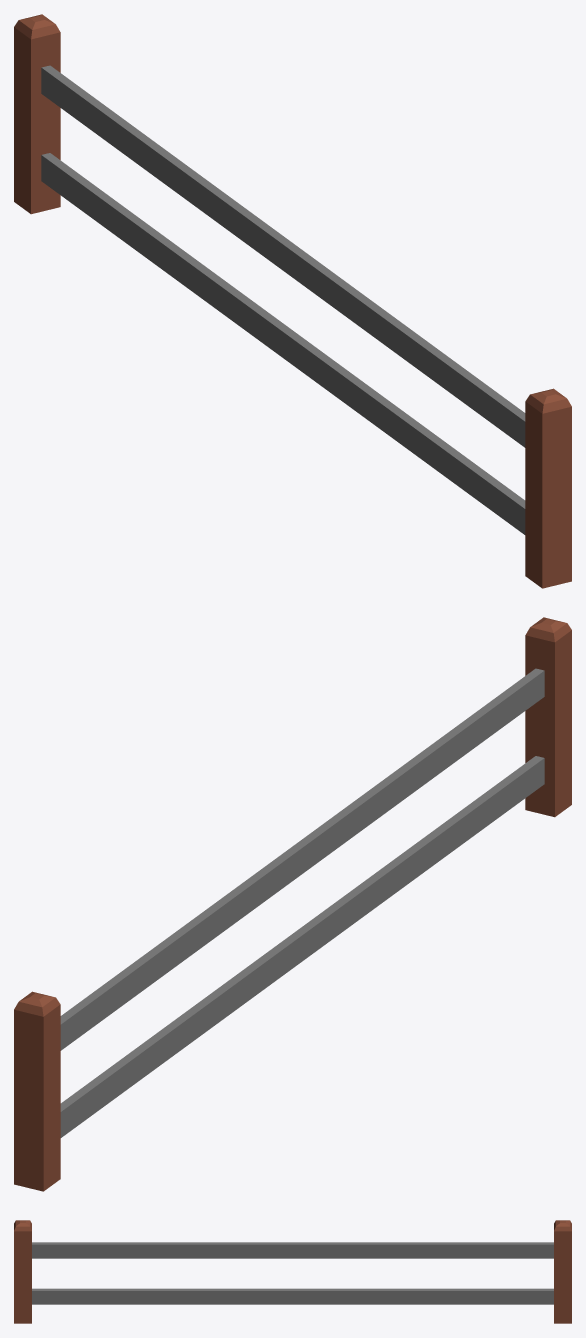
The model's file is Stadium Short Fence.fbx.
The picture shows the model from 3 angles, top to bottom: view 1: azimuth 30°, elevation 25°; view 2: azimuth 150°, elevation 25°; view 3: azimuth 270°, elevation 25°; orthographic projection. The views are drawn at different scales.
Parts seen in each view (by area): view 1: Stadium Short Fence; view 2: Stadium Short Fence; view 3: Stadium Short Fence.
Part boxes in pixels (bbox=[...]): Stadium Short Fence: bbox=[14, 14, 571, 588]; Stadium Short Fence: bbox=[14, 617, 571, 1191]; Stadium Short Fence: bbox=[14, 1220, 571, 1323].
Size of the model in its own units: 100 by 600 by 3100.
